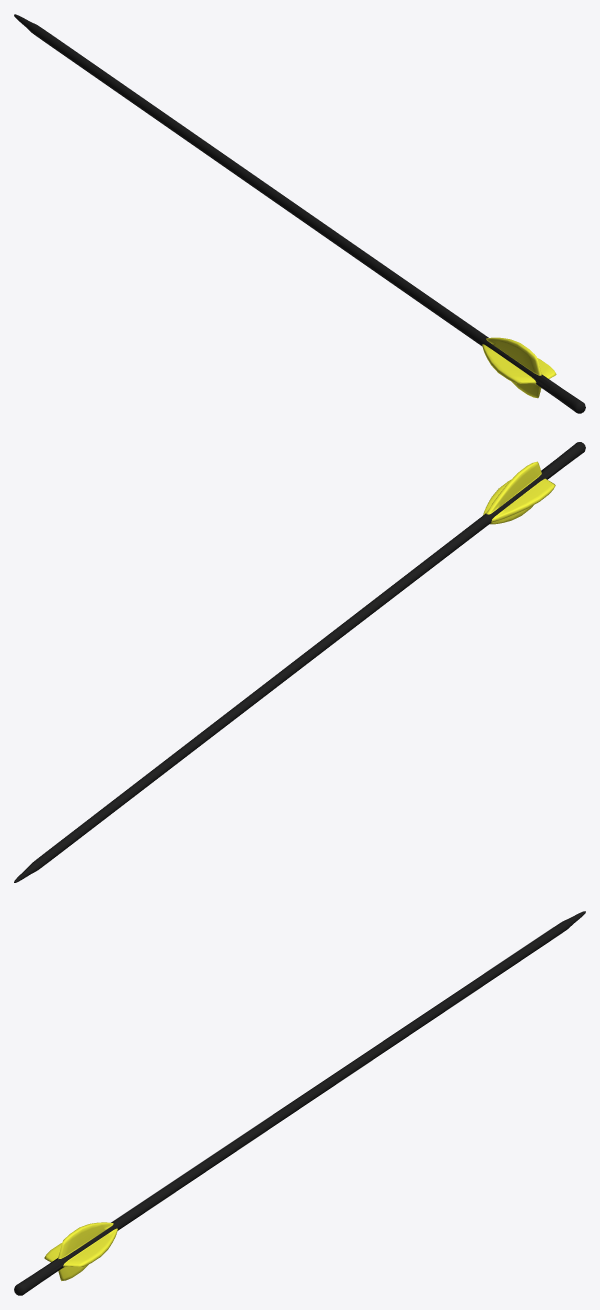
File: shotarrow.gltf
3 renders of one model, top to bottom at view 1: azimuth 30°, elevation 25°; view 2: azimuth 150°, elevation 25°; view 3: azimuth 330°, elevation 25°, orthographic. The views are drawn at different scales.
Parts seen in each view (by area): view 1: arrow; view 2: arrow; view 3: arrow.
Part boxes in pixels (bbox=[...]): arrow: bbox=[14, 14, 585, 413]; arrow: bbox=[14, 442, 585, 882]; arrow: bbox=[14, 911, 585, 1295].
Size of the model in its own units: 0.0403 by 0.0468 by 0.9426.
